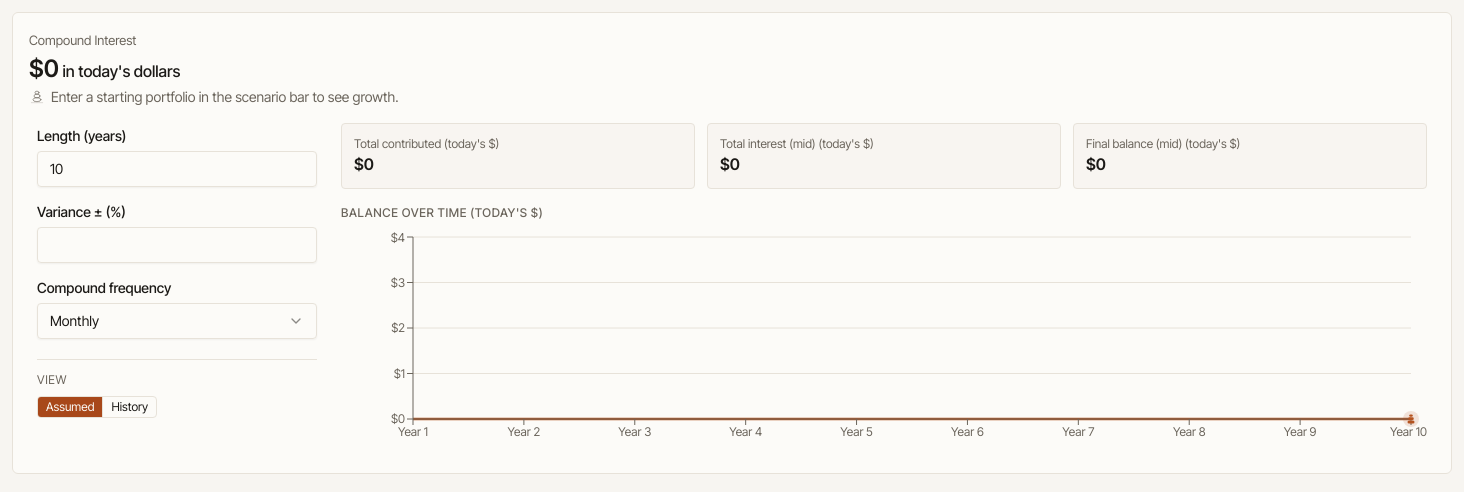
Scenario: CompoundInterestCard › shows placeholder when years is 0 or empty
The image size is (1464, 492).
Clear the number field labelled "Length (years)": (177, 168) left=37, top=150, right=317, bottom=186
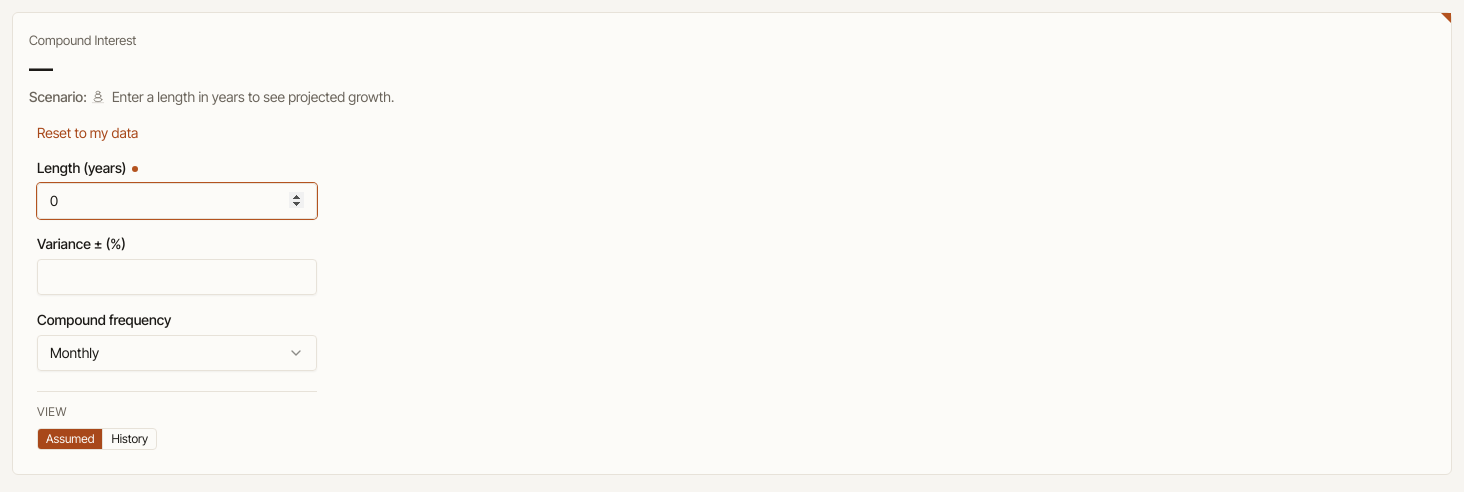
Check: the text "Enter a length in years to see projected growth." is shown, box left=90, top=88, right=394, bottom=104
